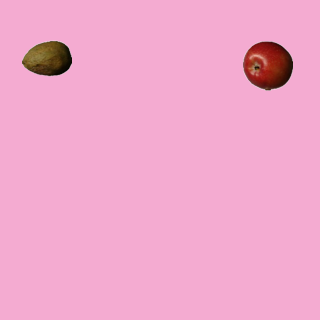Apple Braeburn: (242, 40, 292, 90)
Papaya: (21, 33, 71, 83)
